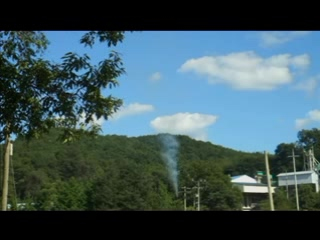smoke: (159, 136, 182, 195)
